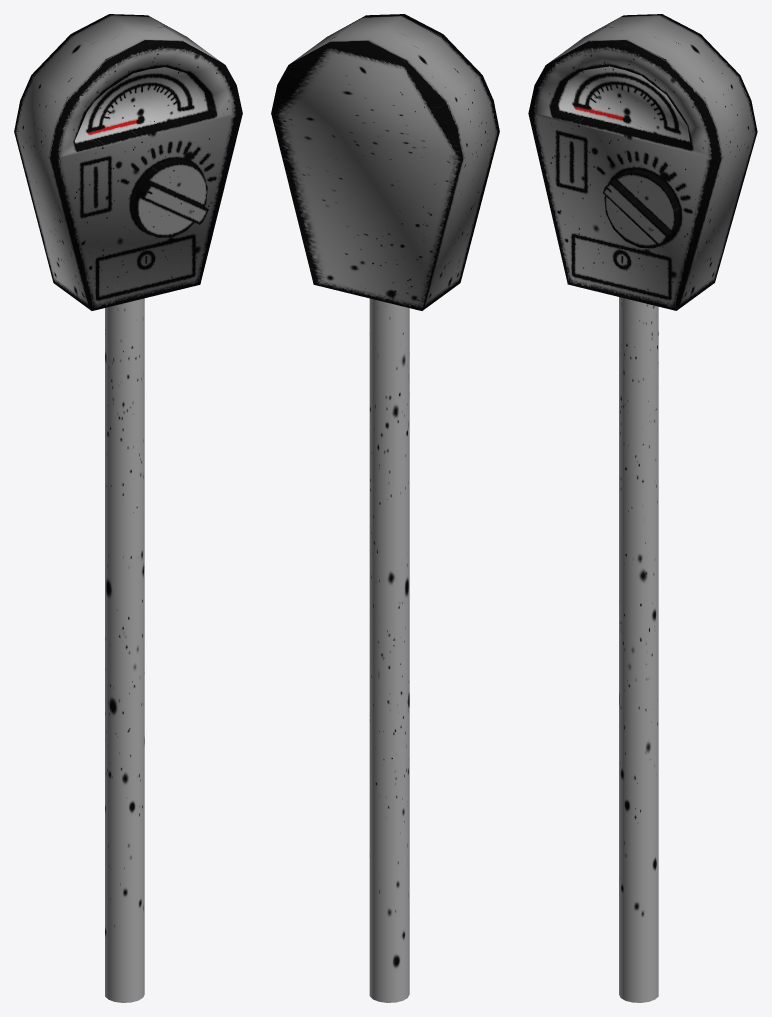
The model's file is Parking_meter.obj.
3 views of the same model, side by side, from view 1: azimuth 30°, elevation 25°; view 2: azimuth 150°, elevation 25°; view 3: azimuth 330°, elevation 25° (orthographic).
Visible parts, largest first — view 1: Parking_meter; view 2: Parking_meter; view 3: Parking_meter.
Part boxes in pixels (bbox=[...]): Parking_meter: bbox=[14, 14, 242, 1002]; Parking_meter: bbox=[271, 14, 499, 1002]; Parking_meter: bbox=[528, 14, 757, 1002].
Bounding box in the file's own units: 0.5584 × 2.71 × 0.2382.
